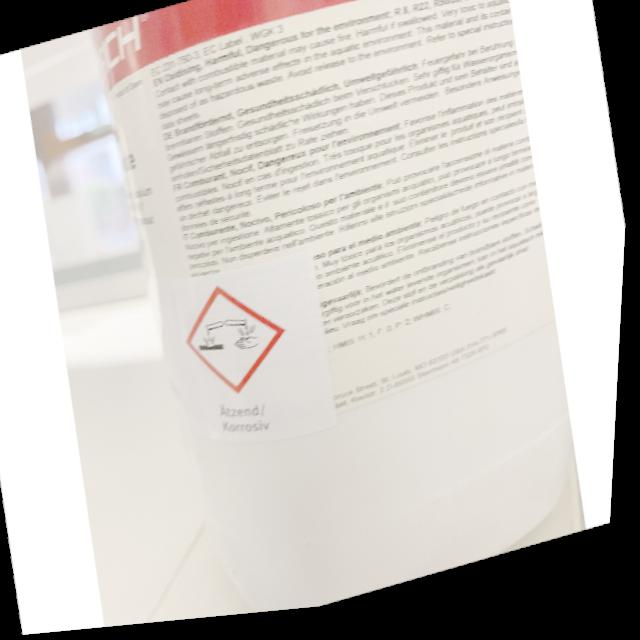corrosive: (177, 271, 303, 413)
